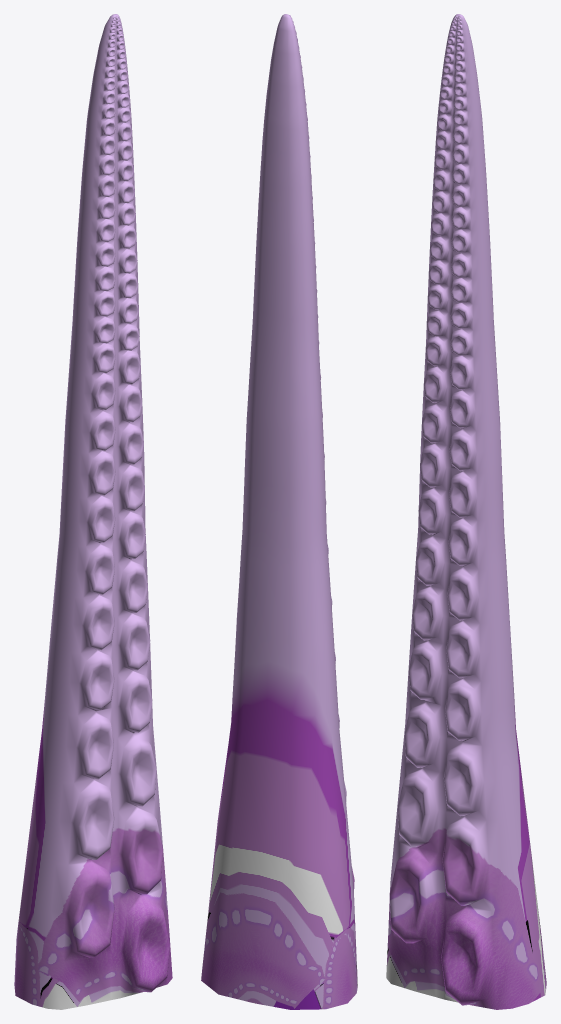
Rendered from Arm.obj.
3 views of the same model, side by side, from view 1: azimuth 30°, elevation 25°; view 2: azimuth 150°, elevation 25°; view 3: azimuth 330°, elevation 25° (orthographic). The views are drawn at different scales.
Parts seen in each view (by area): view 1: Circle.014_Circle.016; view 2: Circle.014_Circle.016; view 3: Circle.014_Circle.016.
Boxes of the visible parts, left/top/right/bottom form: Circle.014_Circle.016: left=14, top=14, right=172, bottom=1009; Circle.014_Circle.016: left=201, top=14, right=357, bottom=1009; Circle.014_Circle.016: left=386, top=14, right=546, bottom=1009.
Bounding box in the file's own units: 0.9784 × 6.19 × 0.7077.
1 material, 1 textured.
